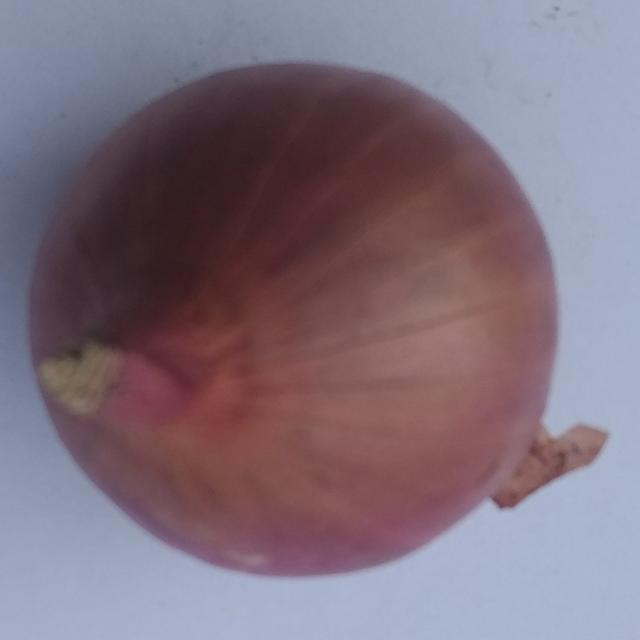onion: (20, 53, 612, 583)
